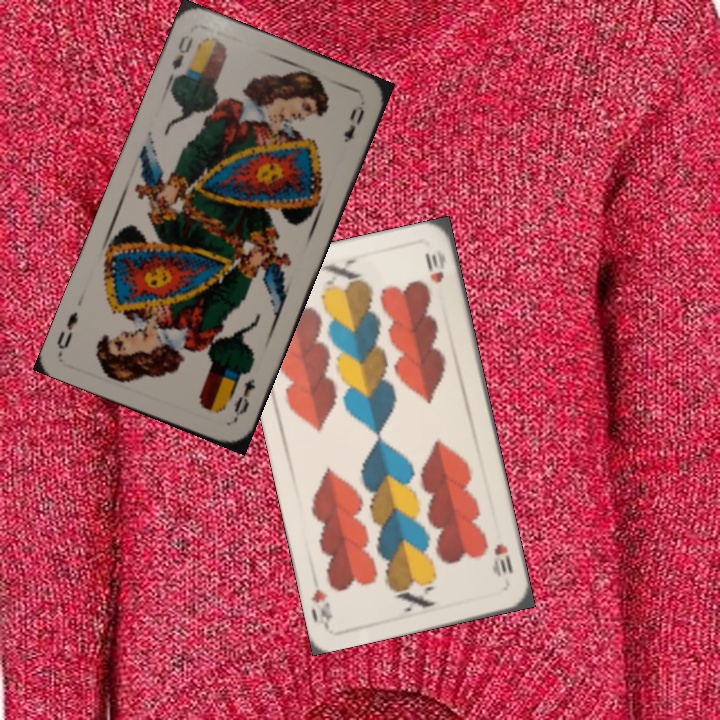EO: (164, 30, 196, 85), (230, 375, 259, 423)
H10: (489, 539, 515, 580)
